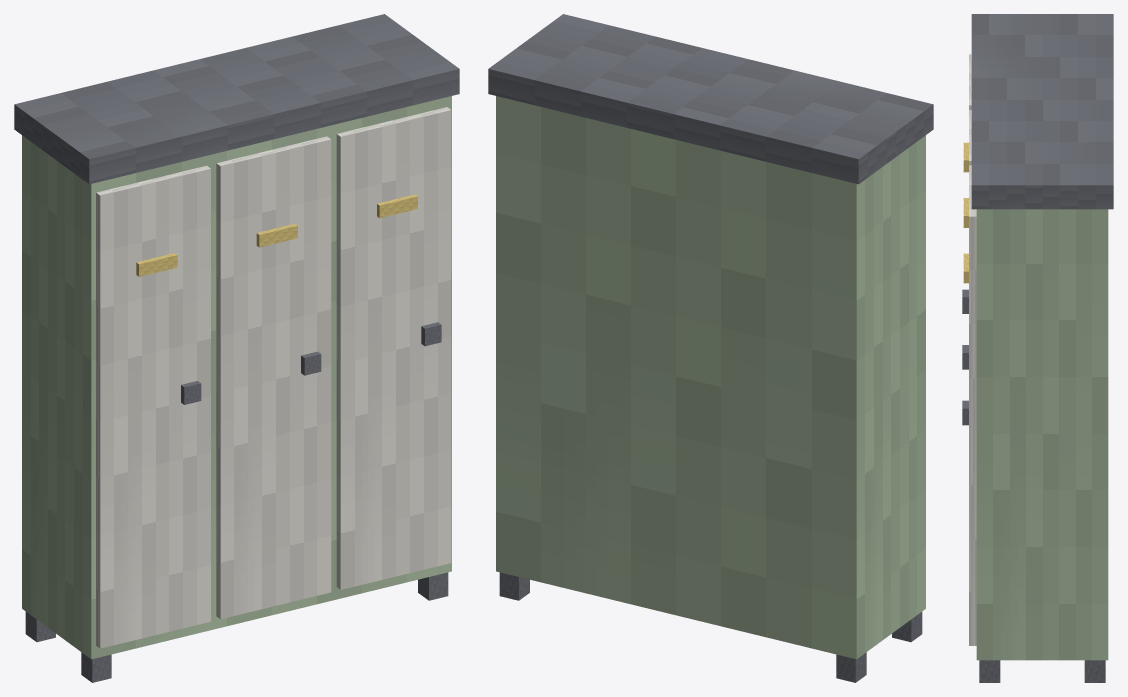
The model's file is pixel-modern-supermarket-staff-lockers-e5f436bc__28026.glb.
3 views of the same model, side by side, from view 1: azimuth 30°, elevation 25°; view 2: azimuth 150°, elevation 25°; view 3: azimuth 270°, elevation 25° (orthographic). The views are drawn at different scales.
Visible parts, largest first — view 1: staff-lockers; view 2: staff-lockers; view 3: staff-lockers.
Boxes of the visible parts, bbox=[...] form: staff-lockers: bbox=[14, 14, 459, 682]; staff-lockers: bbox=[488, 14, 933, 682]; staff-lockers: bbox=[962, 14, 1113, 682].
Bounding box in the file's own units: 1.54 × 2.1 × 0.5751.
Materials: 4 (4 with a texture image).
